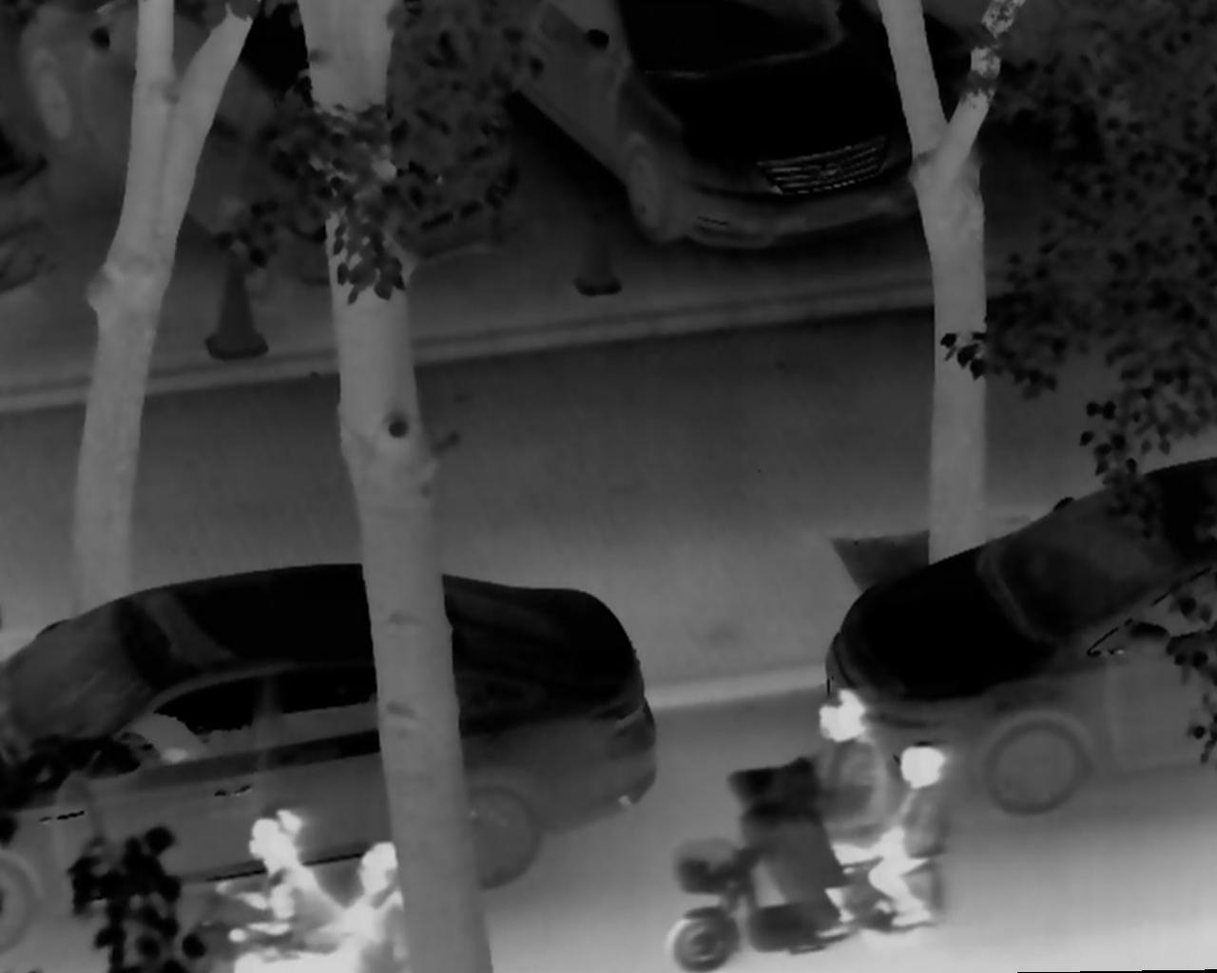person: (200, 783, 339, 973), (791, 666, 881, 952), (866, 730, 956, 945), (330, 811, 425, 973)
